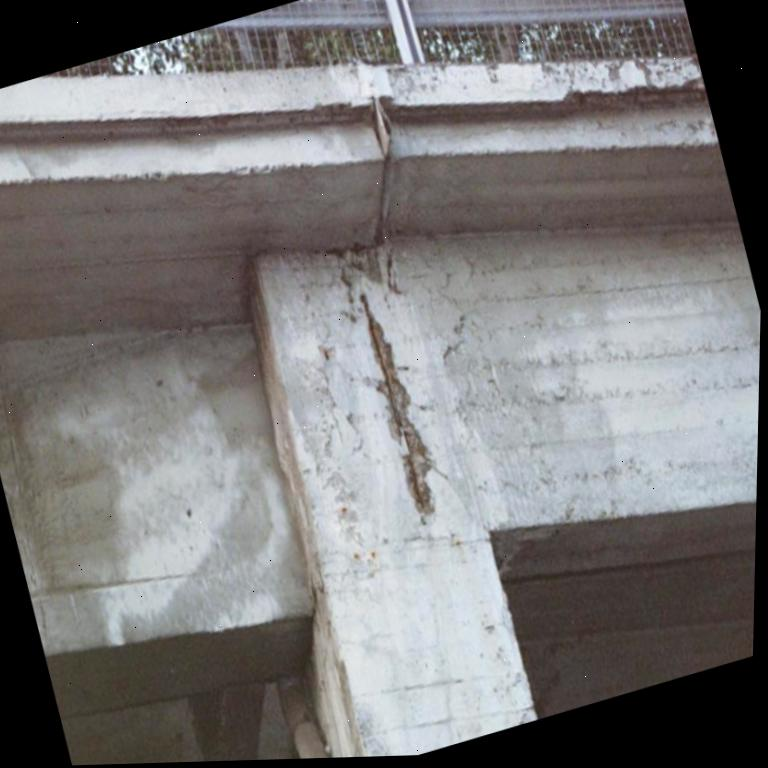spalling: (360, 296, 435, 513), (550, 88, 709, 110)
